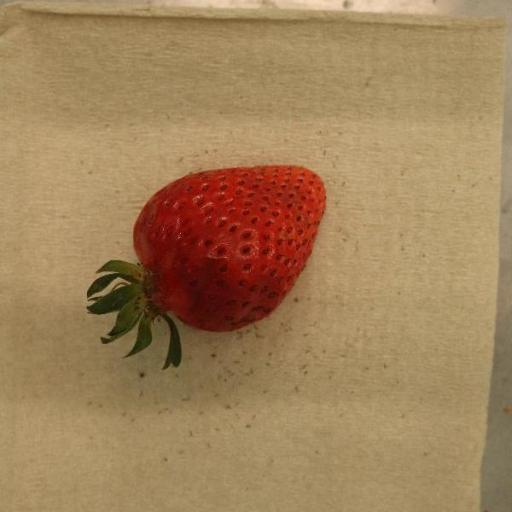Strawberry: (85, 166, 326, 371)
